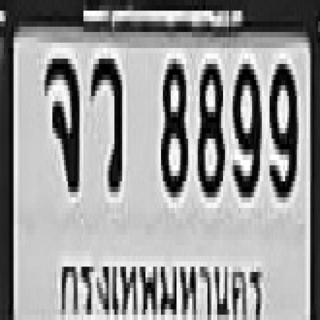A08: (42, 51, 78, 184)
A37: (89, 51, 120, 184)
N08: (159, 53, 186, 192), (196, 56, 223, 189)
N09: (268, 56, 295, 189), (231, 56, 258, 189)
P04: (56, 240, 266, 320)
